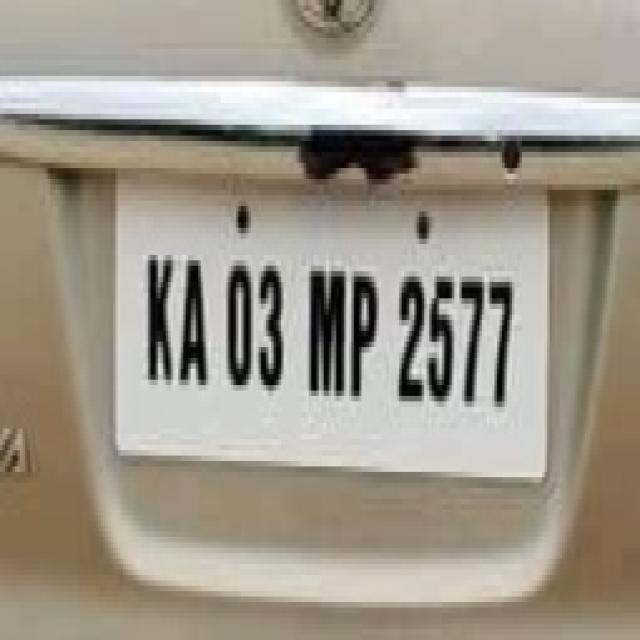0: (224, 250, 256, 394)
3: (254, 259, 286, 398)
5: (426, 268, 456, 410)
7: (486, 270, 520, 416), (456, 266, 486, 428)
A: (177, 249, 210, 397)
K: (143, 248, 175, 394)
M: (303, 256, 348, 418)
P: (350, 263, 382, 413)
